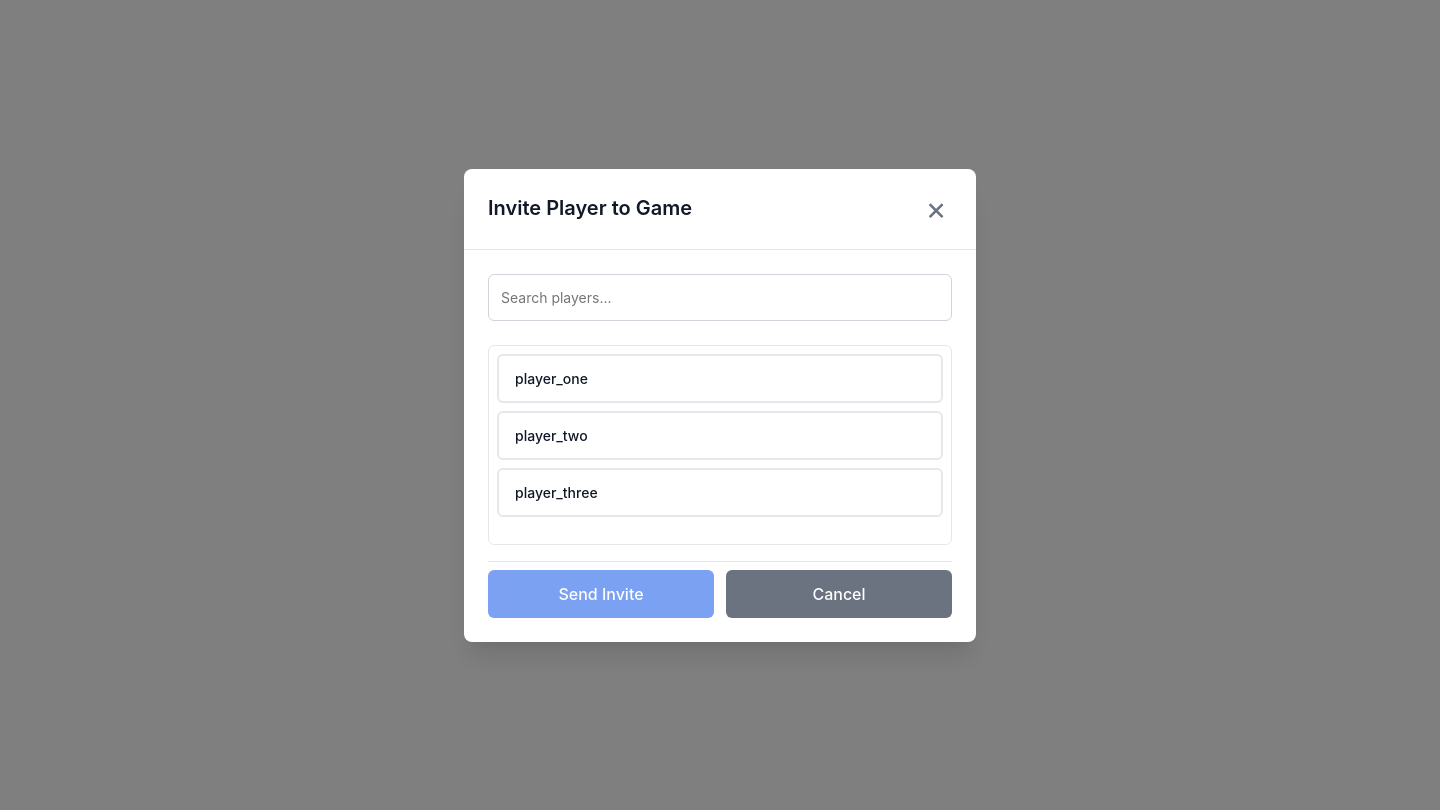
Test: InviteModal › Search/Filter Functionality › should filter players based on search input
Type "one" into the field with placeholder "Search players..." at (720, 297), box [488, 274, 952, 320]
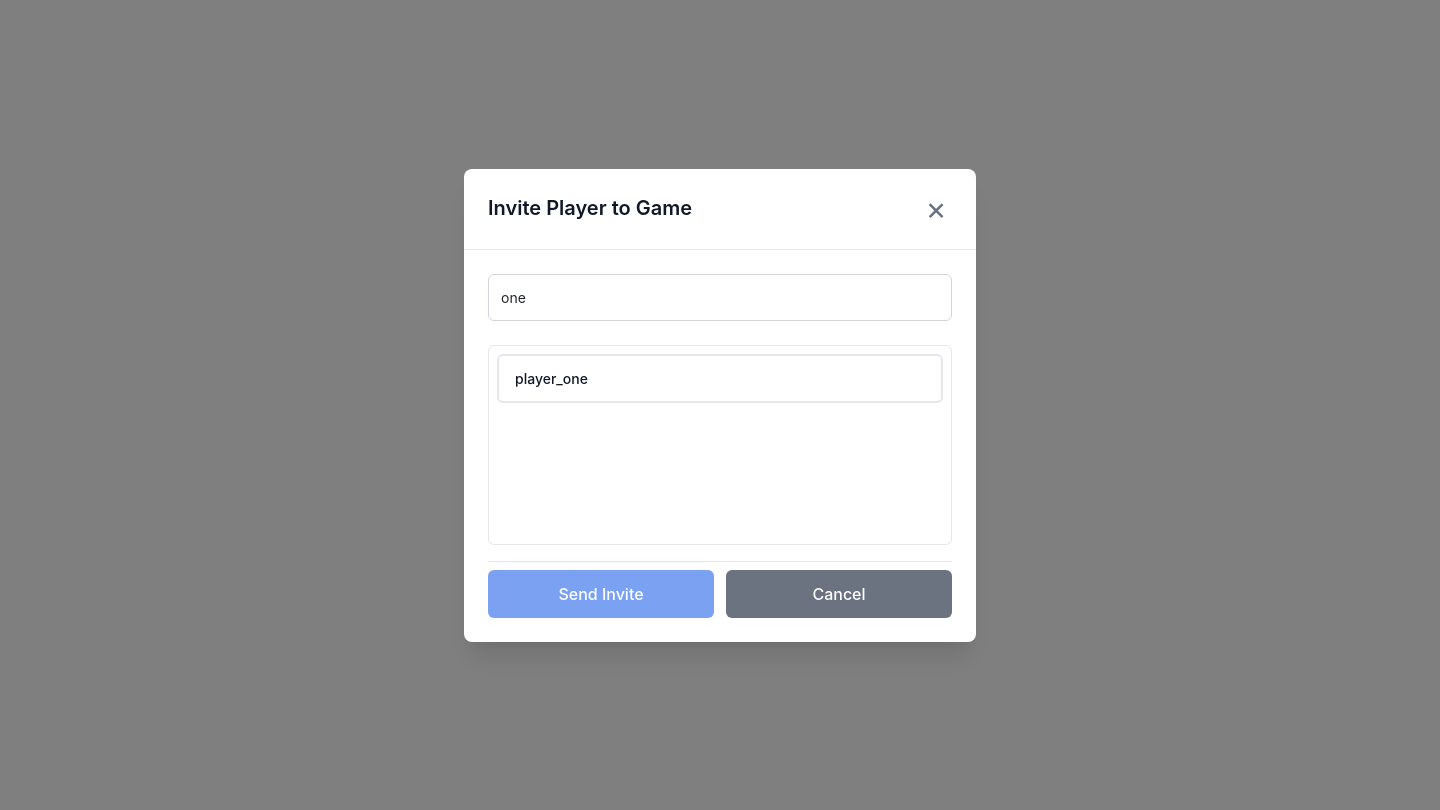
Expected: the text "player_one" is shown, [515, 368, 588, 388]
Result: the button "player_two" is gone
Result: the button "player_three" is gone
